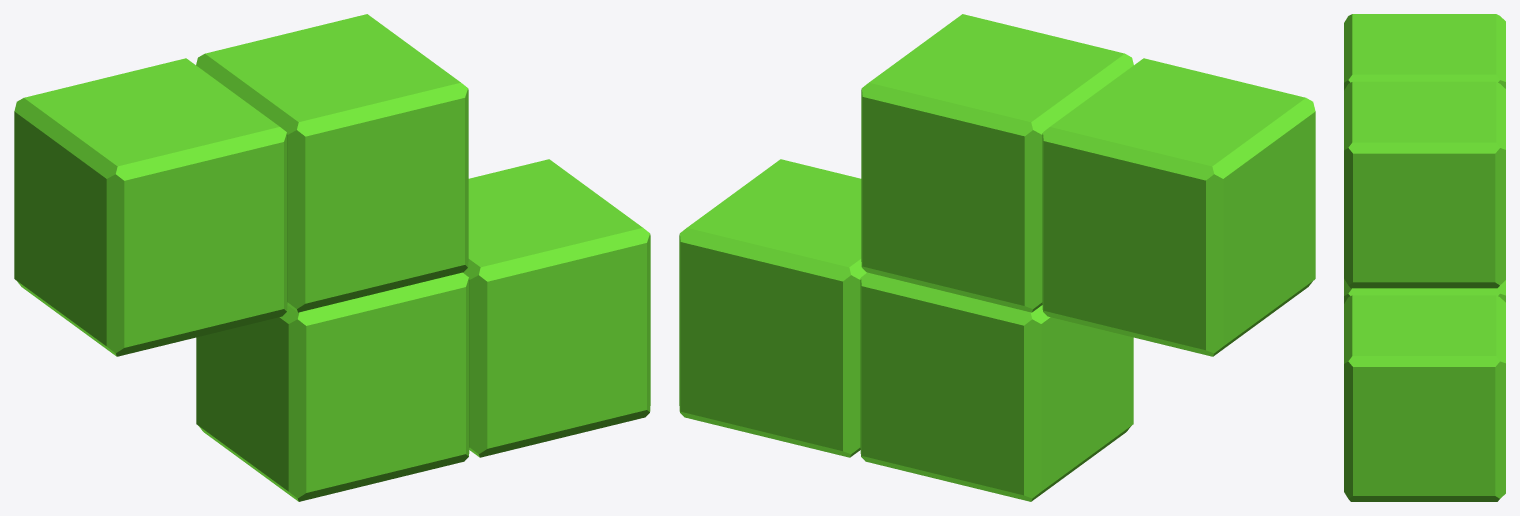
File: pieza2.fbx
3 views of the same model, side by side, from view 1: azimuth 30°, elevation 25°; view 2: azimuth 150°, elevation 25°; view 3: azimuth 270°, elevation 25° (orthographic). The views are drawn at different scales.
Visible parts, largest first — view 1: Cube.003, Cube.002, Cube.001, Cube; view 2: Cube.003, Cube.002, Cube.001, Cube; view 3: Cube.002, Cube, Cube.003, Cube.001.
Part boxes in pixels (x1,y1,x2,y2): Cube.003: (14, 58, 287, 356); Cube.002: (196, 14, 468, 312); Cube.001: (196, 272, 469, 501); Cube: (463, 159, 650, 457); Cube.003: (1042, 58, 1315, 356); Cube.002: (861, 14, 1133, 312); Cube.001: (860, 272, 1133, 501); Cube: (679, 159, 866, 457); Cube.002: (1344, 81, 1505, 288); Cube: (1344, 295, 1505, 501); Cube.003: (1344, 14, 1505, 90); Cube.001: (1344, 279, 1505, 303).
Size of the model in its own units: 635 by 423 by 213.
